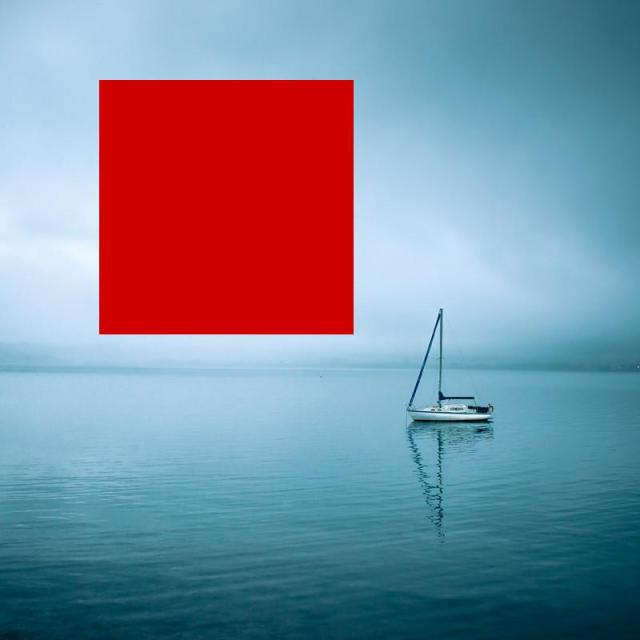RedSquare: (90, 71, 366, 342)
